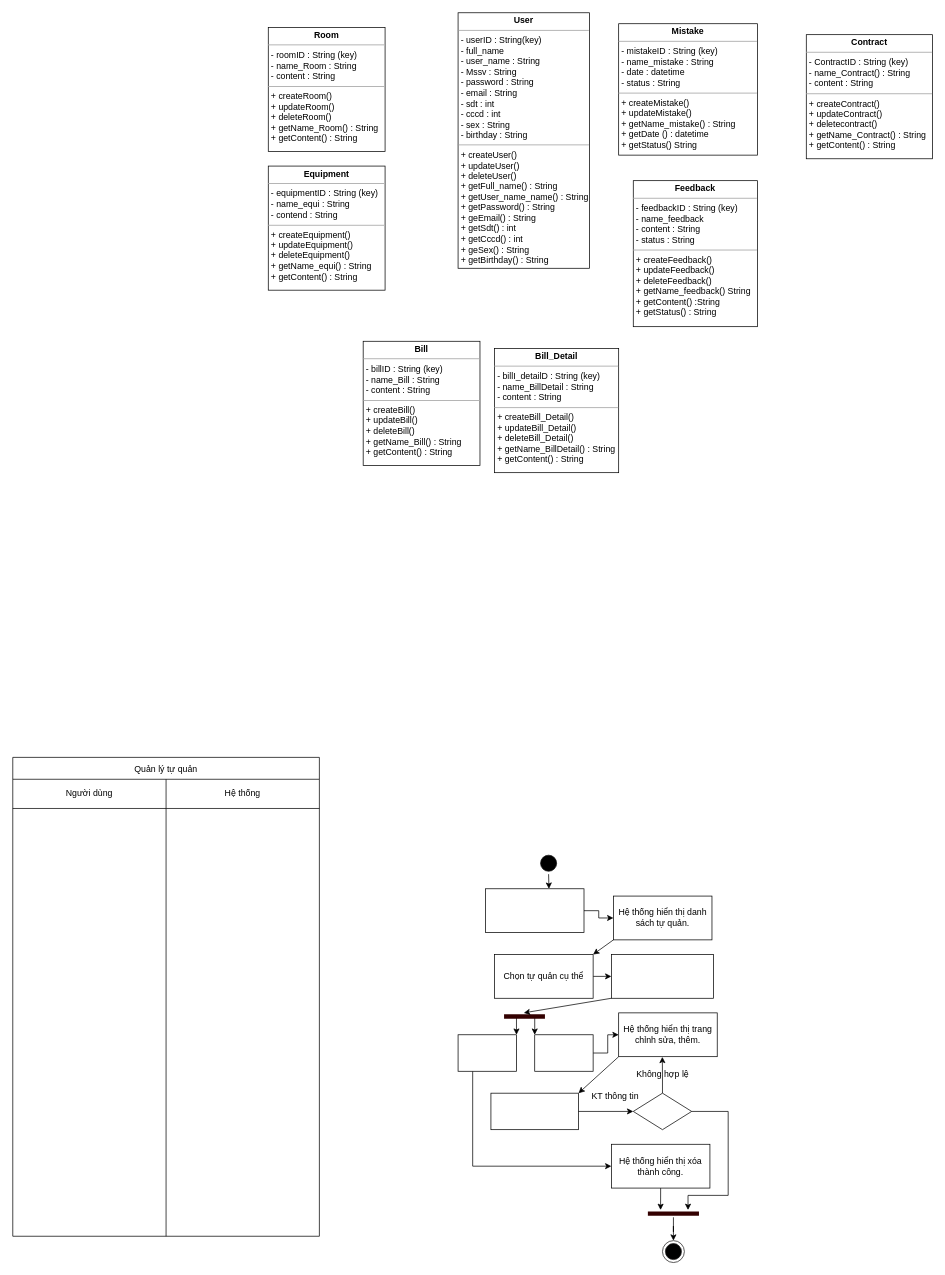
This 945x1275 diagram has some shape labels left out. Each missing label, with the centre of its shape:
Chọn "Chỉnh sửa, Thêm": (x=563, y=1052)
Chọn "Xóa": (x=486, y=1052)
Click "Quản Lý Tự Quản": (x=534, y=910)
Hiển thị thông tin tự quản: (x=662, y=976)
Nhập thông tin: (x=534, y=1111)
